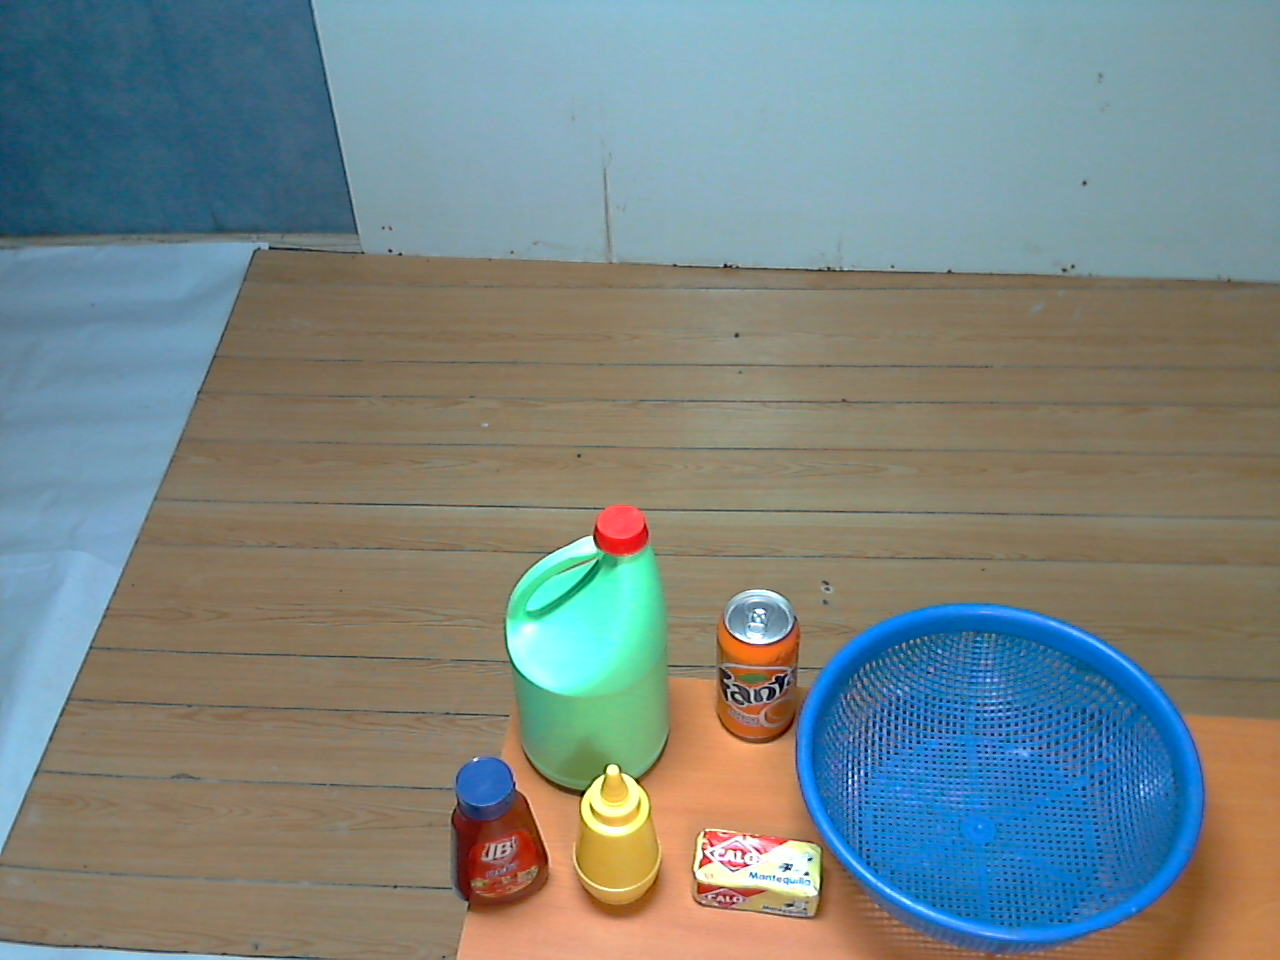cloroplano: (483, 492, 692, 814)
colador: (788, 597, 1215, 956)
ketchup: (436, 754, 560, 925)
lata: (701, 584, 824, 757)
mantequilla: (682, 813, 839, 932)
mostaza: (563, 759, 669, 920)
